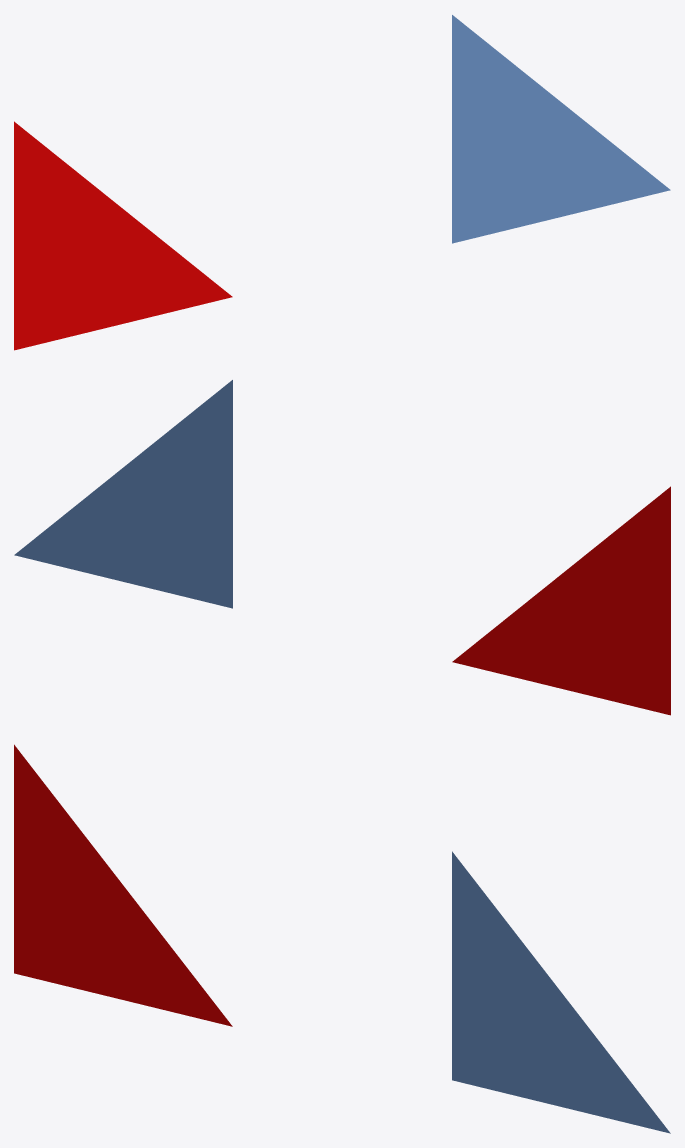
The picture shows the model from 3 angles, top to bottom: view 1: azimuth 30°, elevation 25°; view 2: azimuth 150°, elevation 25°; view 3: azimuth 330°, elevation 25°; orthographic projection.
Visible parts, largest first — view 1: TexturedPanel, PlainPanel; view 2: TexturedPanel, PlainPanel; view 3: TexturedPanel, PlainPanel.
Part boxes in pixels (x1,y1,x2,y2): TexturedPanel: [14, 121, 232, 350]; PlainPanel: [452, 15, 670, 243]; TexturedPanel: [452, 486, 670, 715]; PlainPanel: [14, 380, 232, 608]; TexturedPanel: [14, 744, 232, 1026]; PlainPanel: [452, 851, 670, 1133].
Size of the model in its own units: 3 by 1 by 0.
2 materials, 1 textured.
